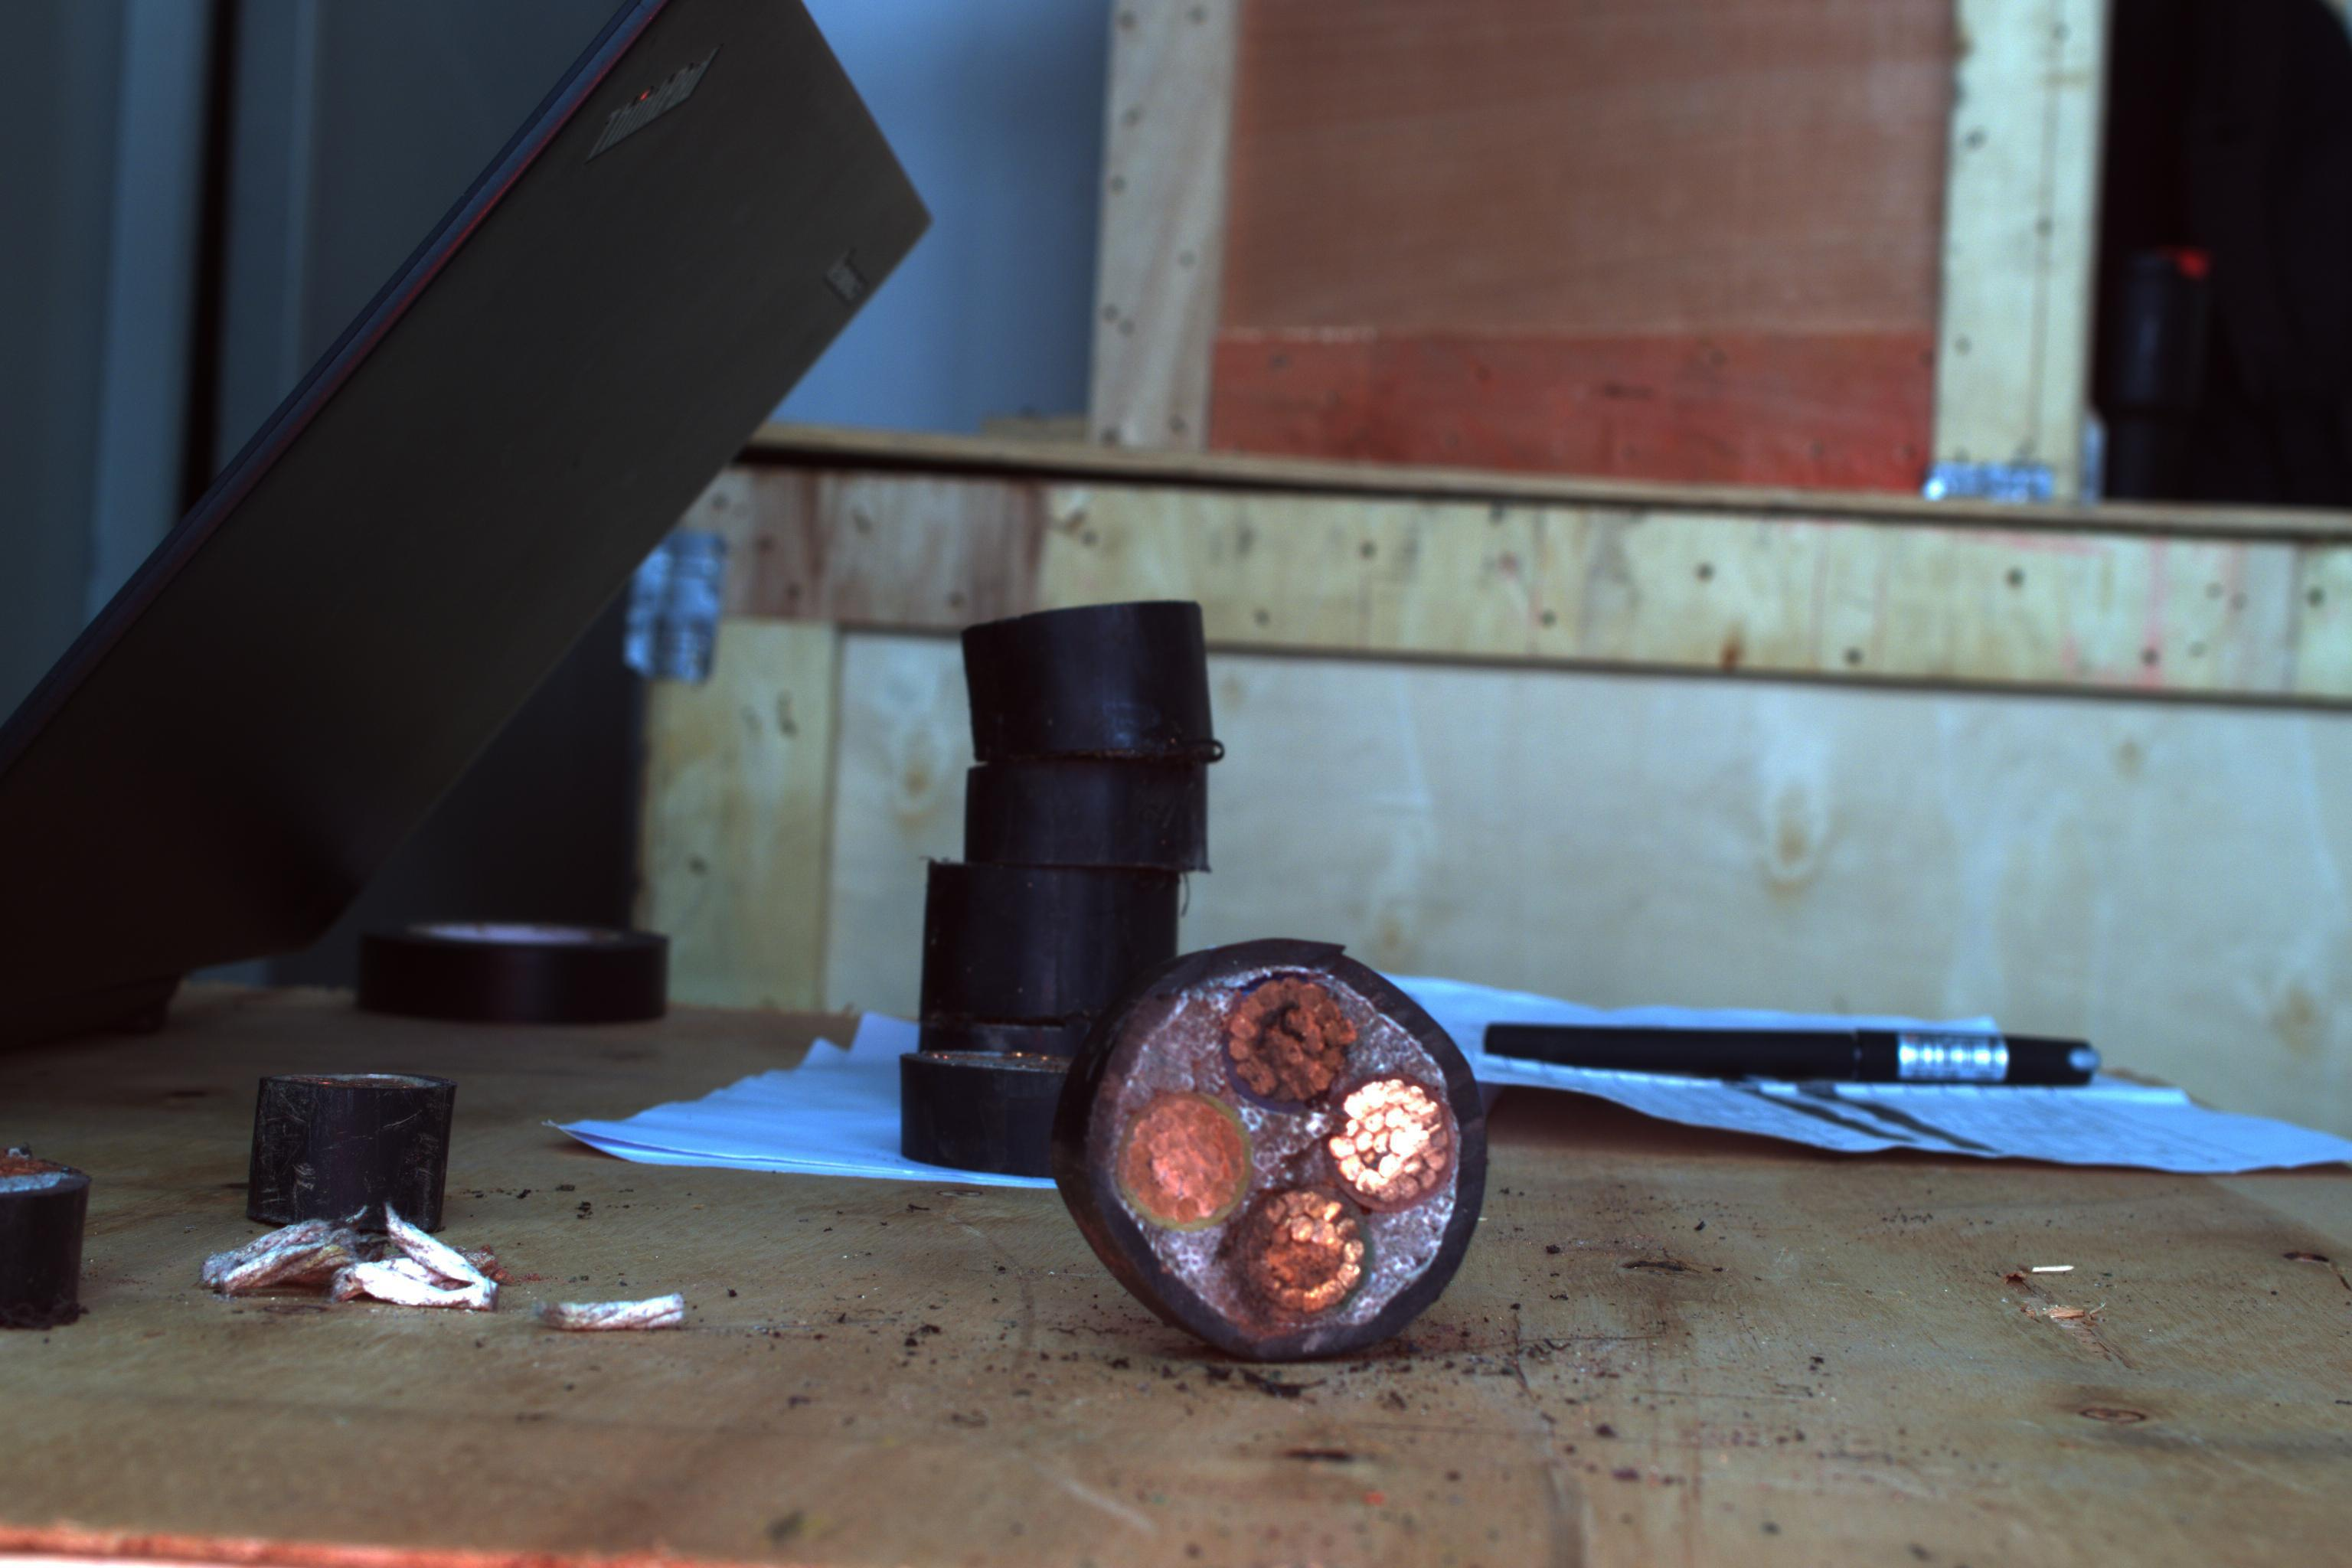YJV_0.6_1kV_4x120: (1053, 948, 1480, 1370)
